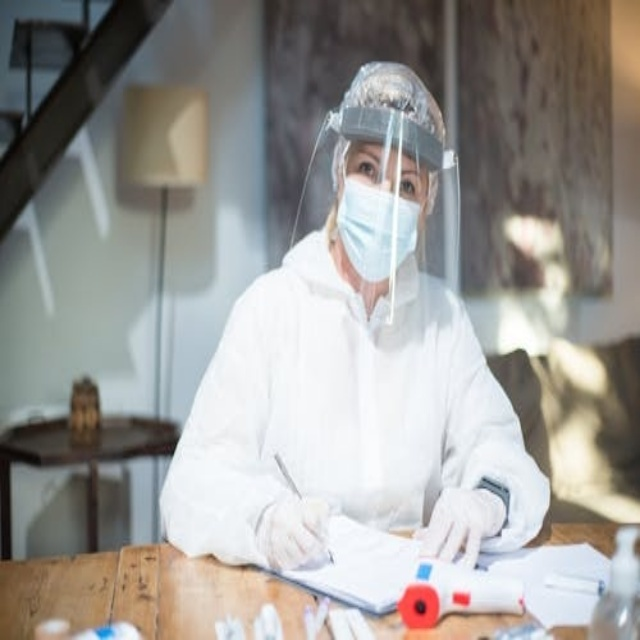Guantes: (414, 484, 506, 570), (257, 494, 332, 572)
Mascara: (337, 171, 422, 283)
Sin_gafas: (353, 148, 429, 207)
